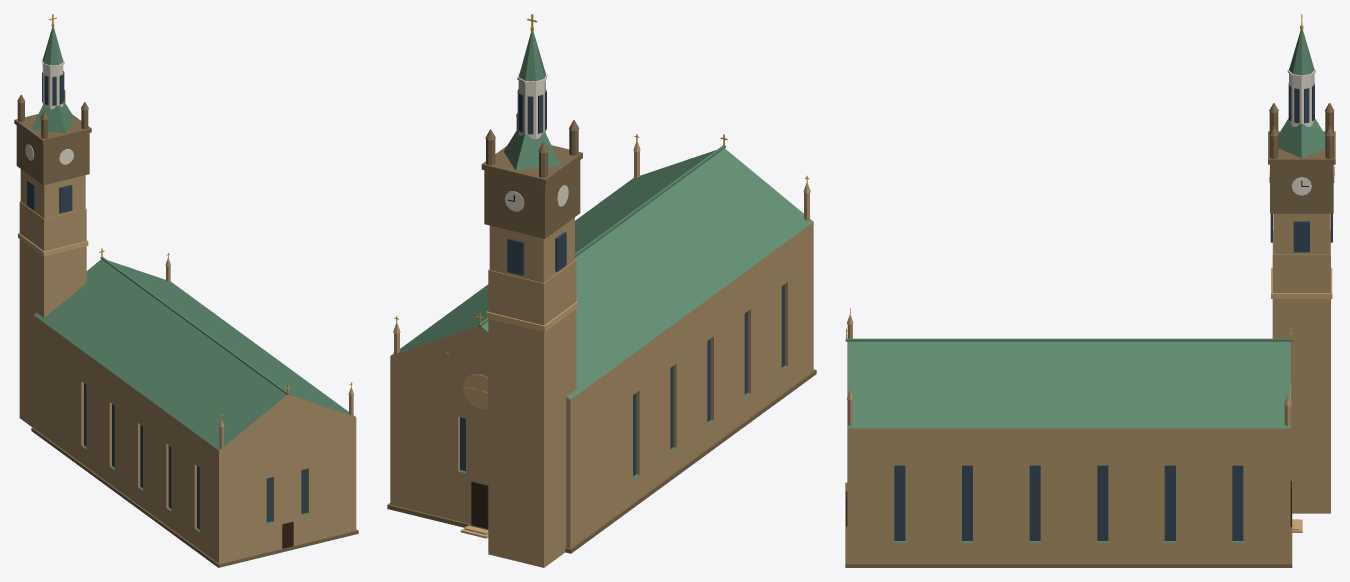
The model's file is st_joseph_church.meshopt.glb.
3 views of the same model, side by side, from view 1: azimuth 30°, elevation 25°; view 2: azimuth 150°, elevation 25°; view 3: azimuth 270°, elevation 25° (orthographic). The views are drawn at different scales.
Visible parts, largest first — view 1: nave, tower_shaft, clock_stage, belfry, plinth, clock_cornice, transition_roof, ridge_cap, lantern, spire; view 2: nave, tower_shaft, clock_stage, belfry, plinth, clock_cornice, transition_roof, lantern, spire, ridge_cap, tower_belt, rose_ring (+2 smaller); view 3: nave, tower_shaft, clock_stage, plinth, belfry, ridge_cap, transition_roof, window_n_0, window_n_2, window_n_3, window_n_4, window_n_5 (+4 smaller).
Part boxes in pixels (bbox=[...]): nave: bbox=[33, 259, 356, 563]; tower_shaft: bbox=[19, 201, 86, 427]; clock_stage: bbox=[16, 125, 89, 185]; belfry: bbox=[20, 169, 85, 218]; plinth: bbox=[31, 427, 358, 567]; clock_cornice: bbox=[14, 114, 91, 144]; transition_roof: bbox=[31, 101, 74, 133]; ridge_cap: bbox=[100, 257, 289, 394]; lantern: bbox=[42, 65, 63, 109]; spire: bbox=[42, 27, 63, 65]; nave: bbox=[390, 148, 813, 548]; tower_shaft: bbox=[488, 260, 576, 567]; clock_stage: bbox=[484, 160, 580, 238]; belfry: bbox=[489, 217, 574, 282]; plinth: bbox=[387, 369, 816, 553]; clock_cornice: bbox=[481, 145, 582, 184]; transition_roof: bbox=[503, 128, 560, 170]; lantern: bbox=[518, 81, 545, 139]; spire: bbox=[519, 31, 545, 81]; ridge_cap: bbox=[478, 145, 725, 326]; tower_belt: bbox=[486, 301, 578, 332]; rose_ring: bbox=[463, 374, 488, 409]; nave: bbox=[847, 341, 1290, 563]; tower_shaft: bbox=[1272, 230, 1330, 513]; clock_stage: bbox=[1270, 164, 1333, 213]; plinth: bbox=[845, 482, 1292, 567]; belfry: bbox=[1273, 213, 1330, 254]; ridge_cap: bbox=[845, 338, 1291, 341]; transition_roof: bbox=[1278, 118, 1325, 157]; window_n_0: bbox=[894, 465, 905, 540]; window_n_2: bbox=[1029, 465, 1040, 540]; window_n_3: bbox=[1097, 465, 1108, 540]; window_n_4: bbox=[1164, 465, 1175, 540]; window_n_5: bbox=[1232, 465, 1243, 540].
Size of the model in its own units: 25.7 by 71.53 by 65.25.
